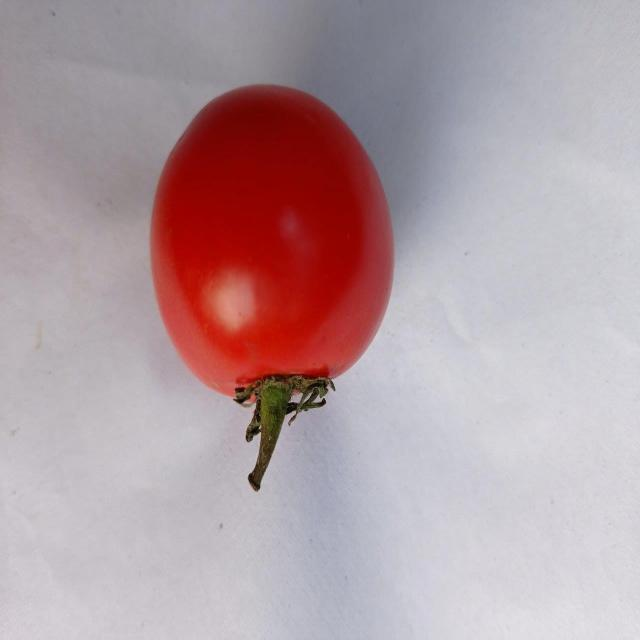Tomato: (148, 79, 398, 493)
